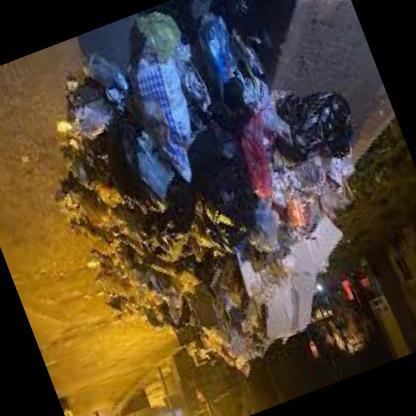Garbage: (40, 0, 313, 252), (146, 94, 398, 318), (130, 160, 330, 382), (58, 124, 226, 310)
